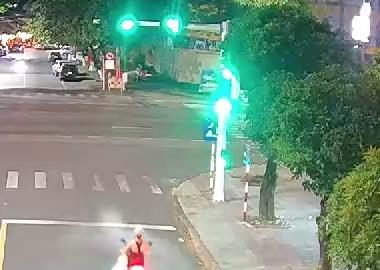green_light: (211, 88, 237, 121), (158, 14, 183, 37), (116, 13, 139, 37)
stop_line: (3, 219, 175, 230)
